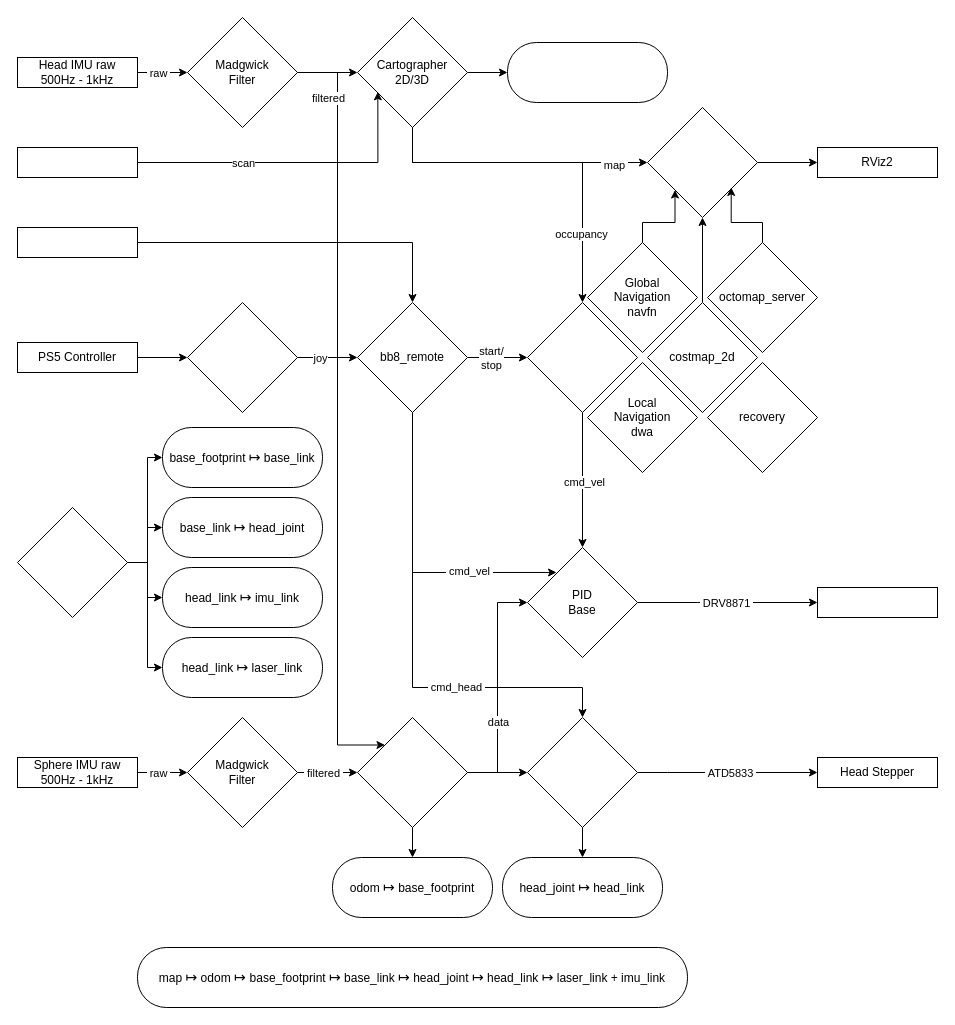
Image size: 955x1025. Some labels were removed from this diagram. The centre of each missing label's shape, as x and y in pixels:
DC Motors: the point at 877,602
Extended Kalman Filter: the point at 412,772
Keyboard: the point at 77,242
map ↦ odom: the point at 587,72
move_base: the point at 582,357
PID Head: the point at 582,772
ps: the point at 242,357
ros1_bridge: the point at 702,162
RPLidar A1 8Hz-10Hz: the point at 77,162
Static TF: the point at 72,562
